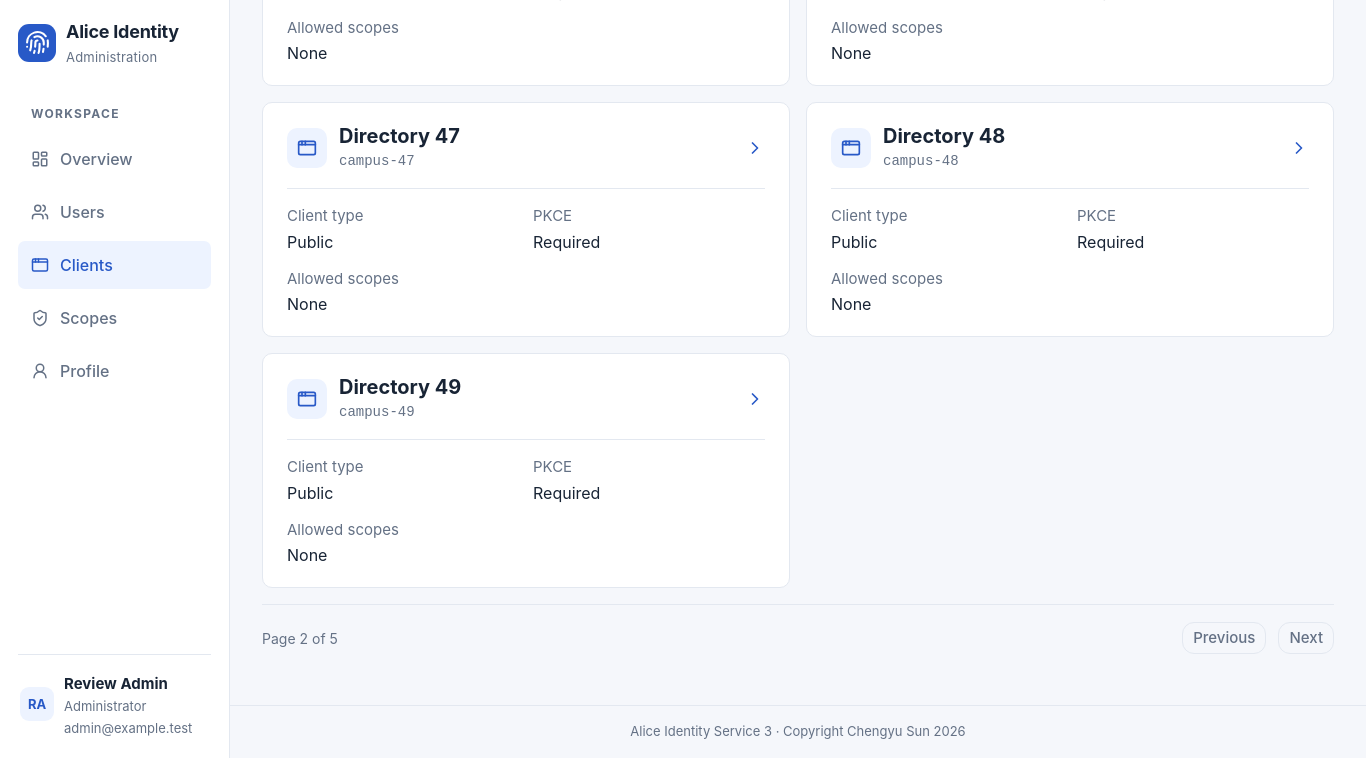
client management › filters across API pages and resets pagination when the name filter changes
(page scrolled)
Expected: the text "Page 2 of 5" is shown, [262, 628, 338, 648]
Click the button "Next".
click(1306, 638)  # box [1278, 622, 1334, 654]
(page scrolled)
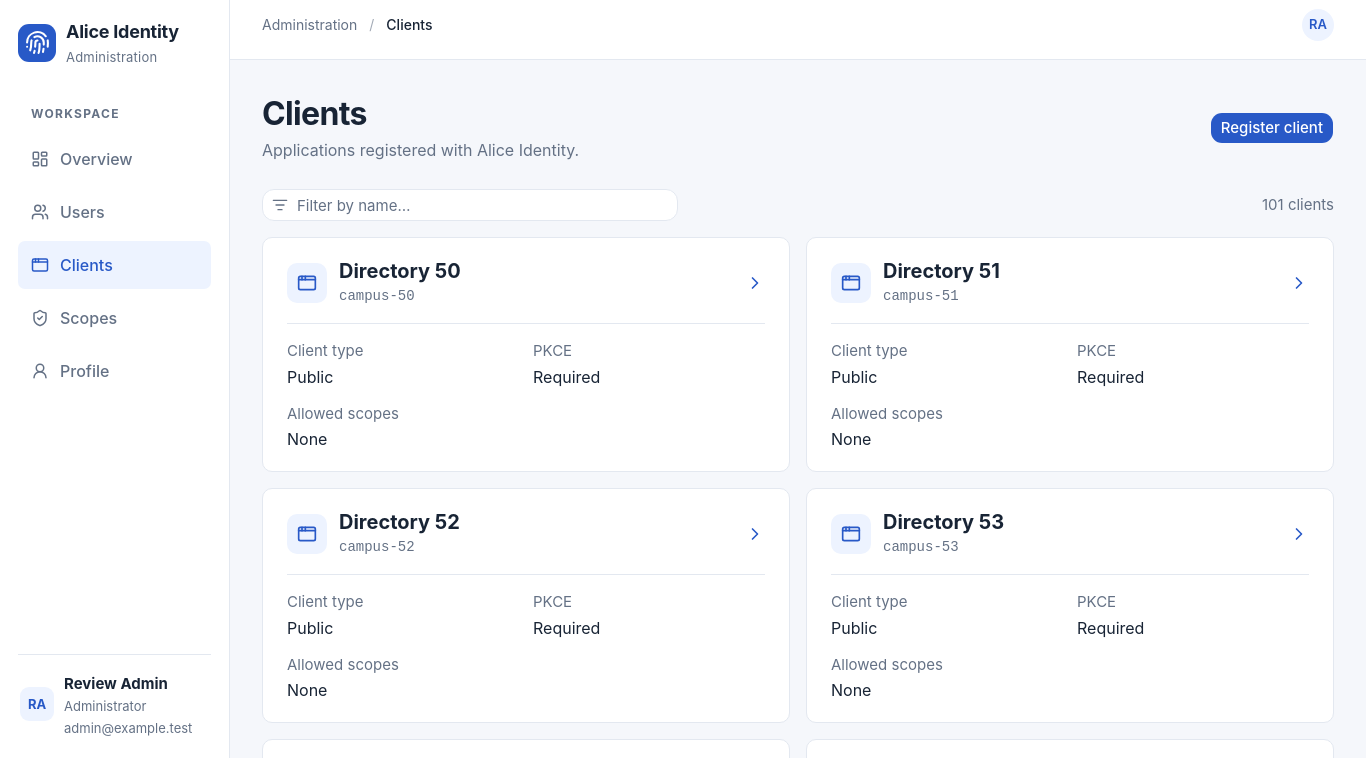
Type "CaMpUs" into the search field named "Filter clients by name".
click(470, 205); type("CaMpUs")  # box [262, 189, 678, 221]
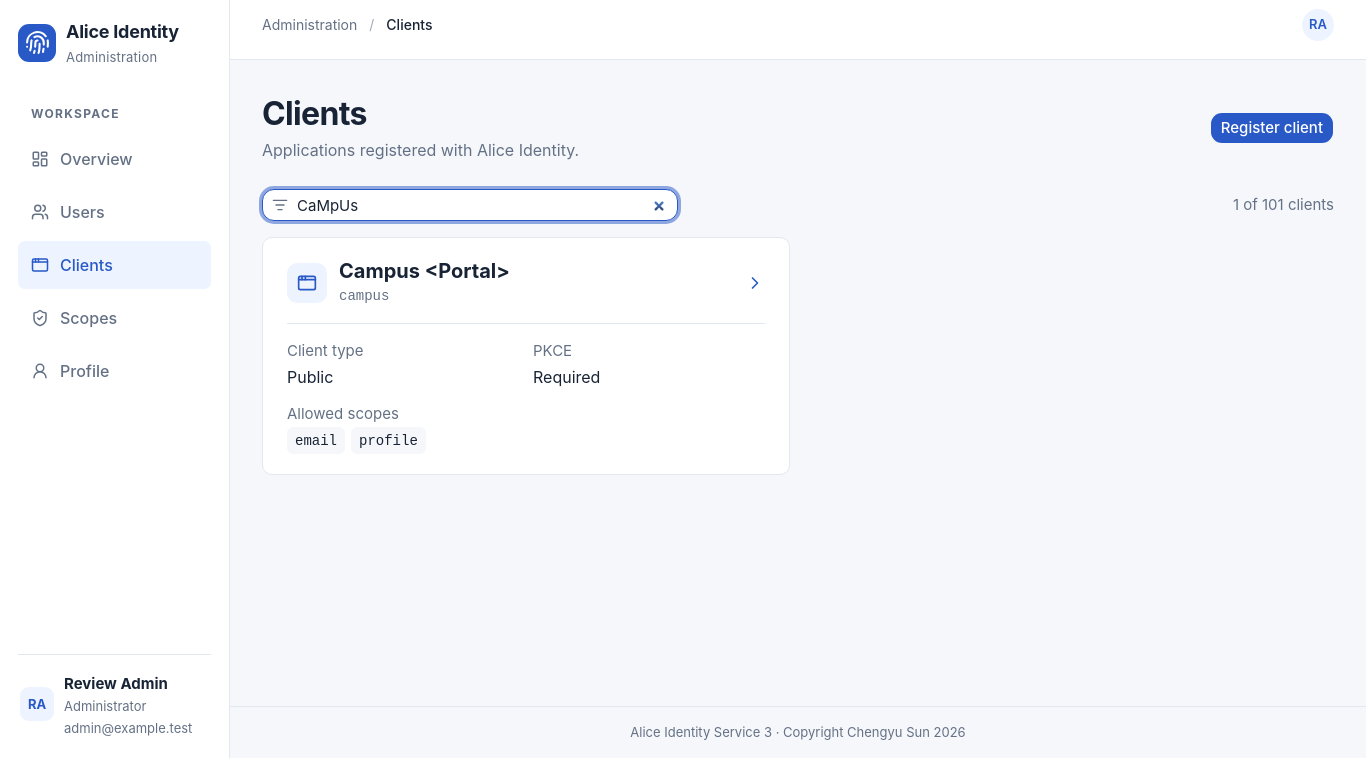
Expected: the button "Next" is not shown
Expected: the link "Campus <Portal>" is shown, [262, 237, 790, 475]
Expected: the message reads "1 of 101 clients", [1233, 194, 1334, 216]
